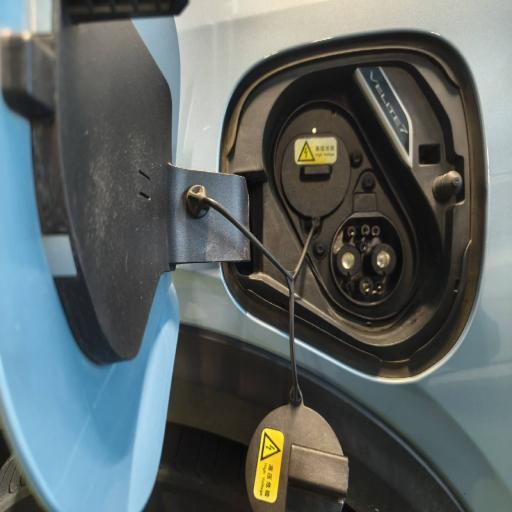DC_charging_port: (330, 212, 405, 306)
DC_hole: (371, 242, 396, 275), (336, 244, 361, 276)
PE: (359, 276, 374, 295)
